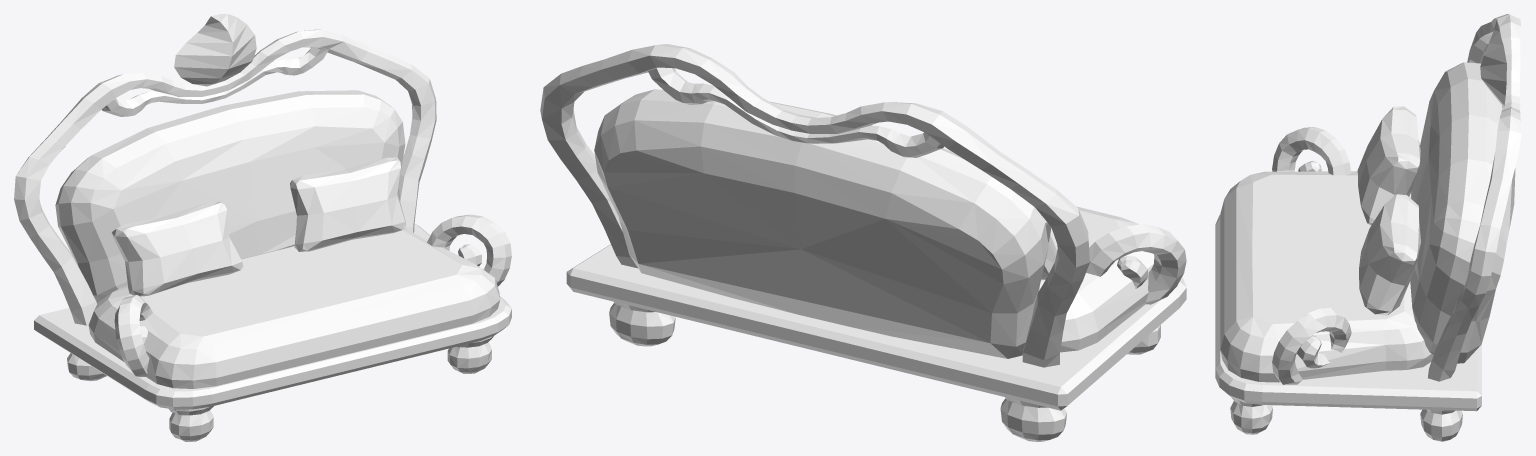
Rendered from g_f_sofa.glb.
The picture shows the model from 3 angles, left to right: view 1: azimuth 30°, elevation 25°; view 2: azimuth 150°, elevation 25°; view 3: azimuth 270°, elevation 25°; orthographic projection. The views are drawn at different scales.
Visible parts, largest first — view 1: geometry_0.001; view 2: geometry_0.001; view 3: geometry_0.001.
Boxes of the visible parts, x1=… form: geometry_0.001: x1=14, y1=14, x2=511, y2=441; geometry_0.001: x1=540, y1=44, x2=1186, y2=441; geometry_0.001: x1=1215, y1=14, x2=1521, y2=441.
Size of the model in its own units: 0.2602 by 0.1816 by 0.1503.
1 material, 1 textured.
